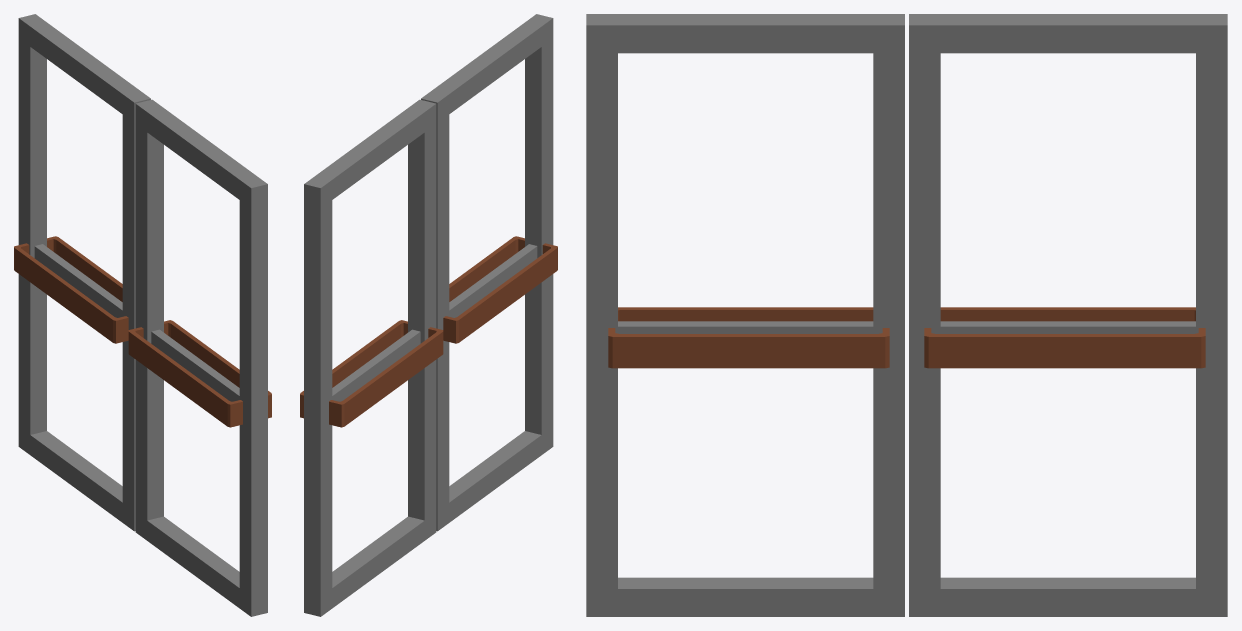
The model's file is doors.glb.
3 renders of one model, left to right at view 1: azimuth 30°, elevation 25°; view 2: azimuth 150°, elevation 25°; view 3: azimuth 270°, elevation 25°, orthographic. The views are drawn at different scales.
Visible parts, largest first — view 1: Cube.001, Cube.847; view 2: Cube.847, Cube.001; view 3: Cube.001, Cube.847.
Boxes of the visible parts, x1,y1,x2,y2 form: Cube.001: (128,99,271,616); Cube.847: (14,14,150,531); Cube.847: (300,99,443,616); Cube.001: (421,14,557,531); Cube.001: (586,14,904,616); Cube.847: (909,14,1227,616).
Bounding box in the file's own units: 1.68 × 15.63 × 15.35.
